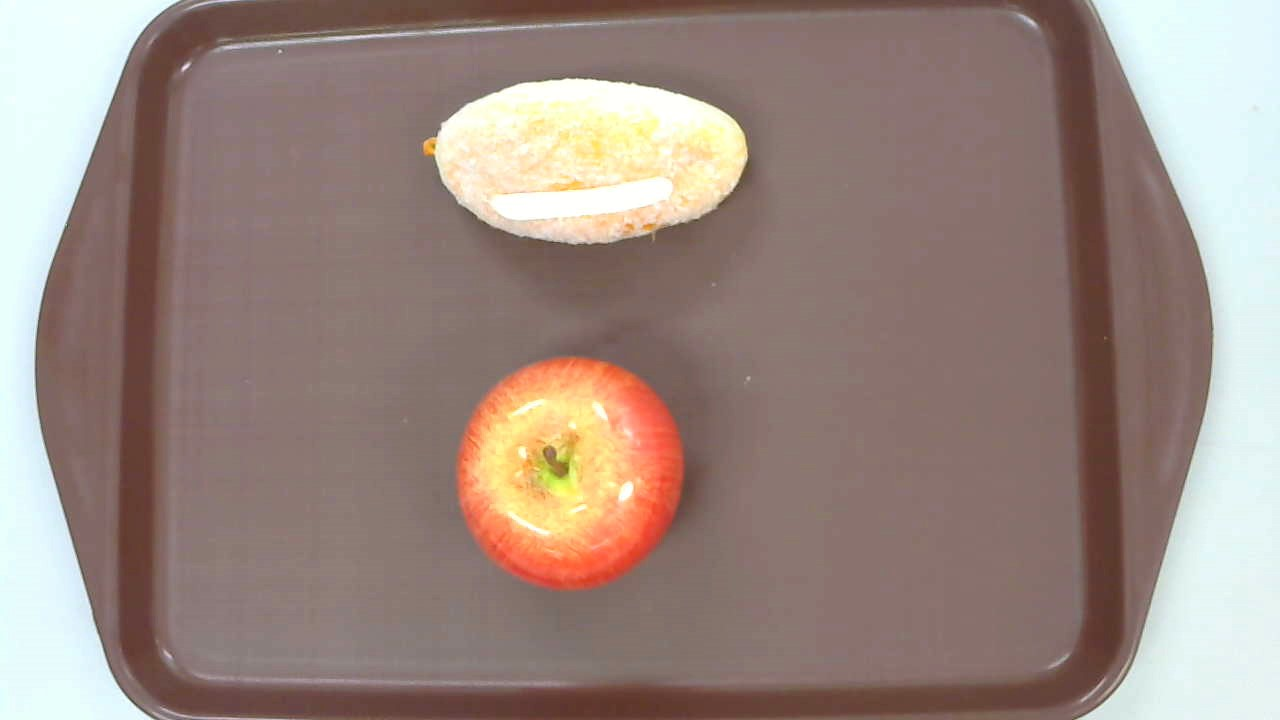coconut: (422, 78, 750, 247)
red apple: (456, 356, 685, 591)
